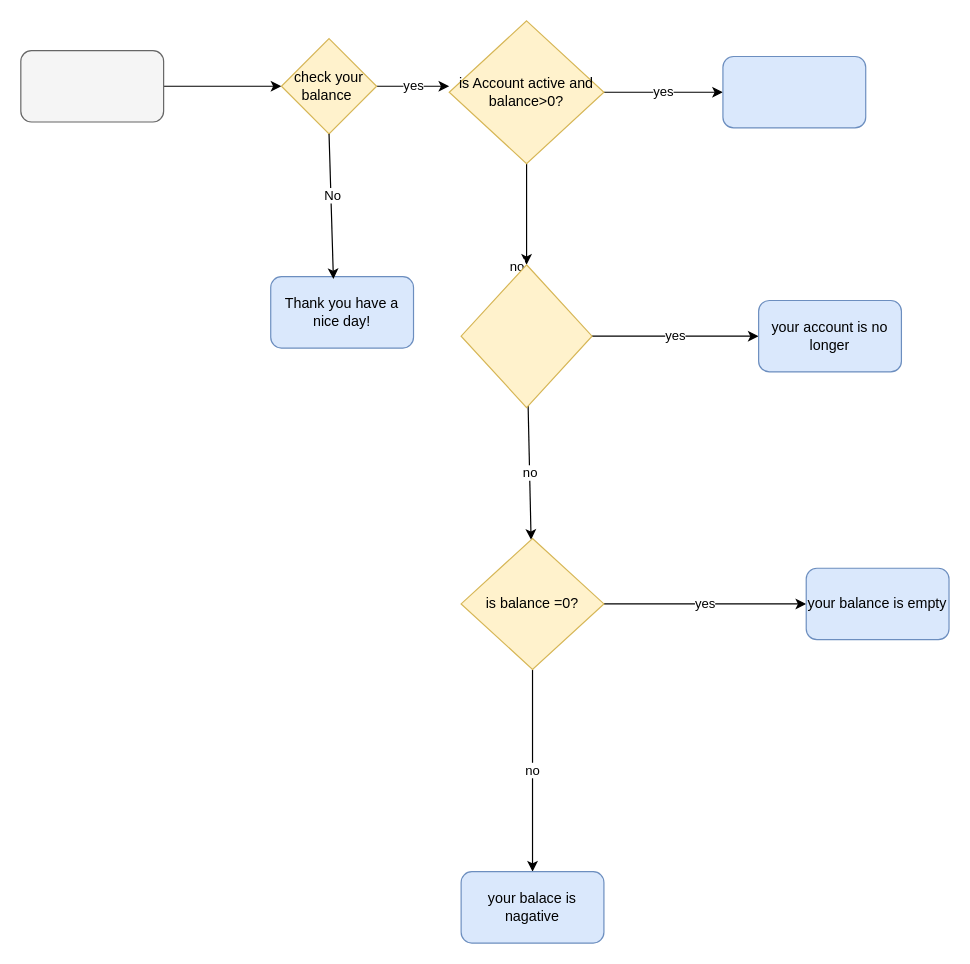
The diagram is 970 pixels wide and 964 high, and some of its shapes have lost their labels. Here are the shapes that lost their labels. From the top down, the centre of each, then its label:
point 92,85: Using the ATM check your balance
point 794,91: your balace is $"+balance+"."
point 526,336: is acount no active
